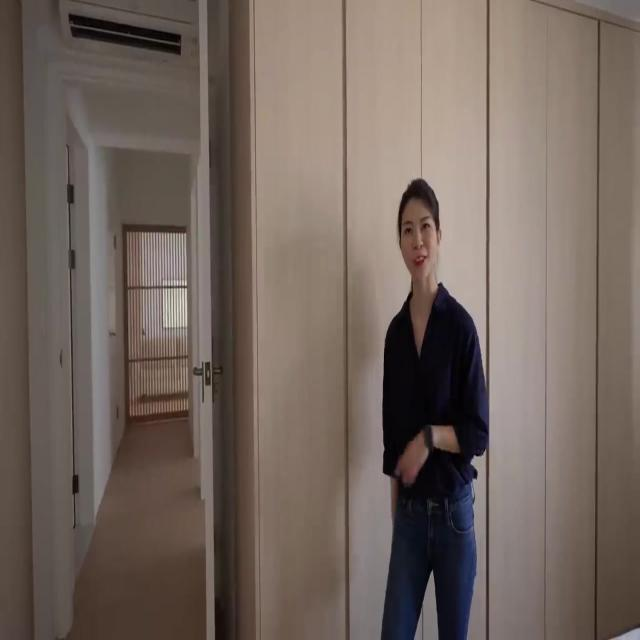person: (380, 177, 489, 639)
